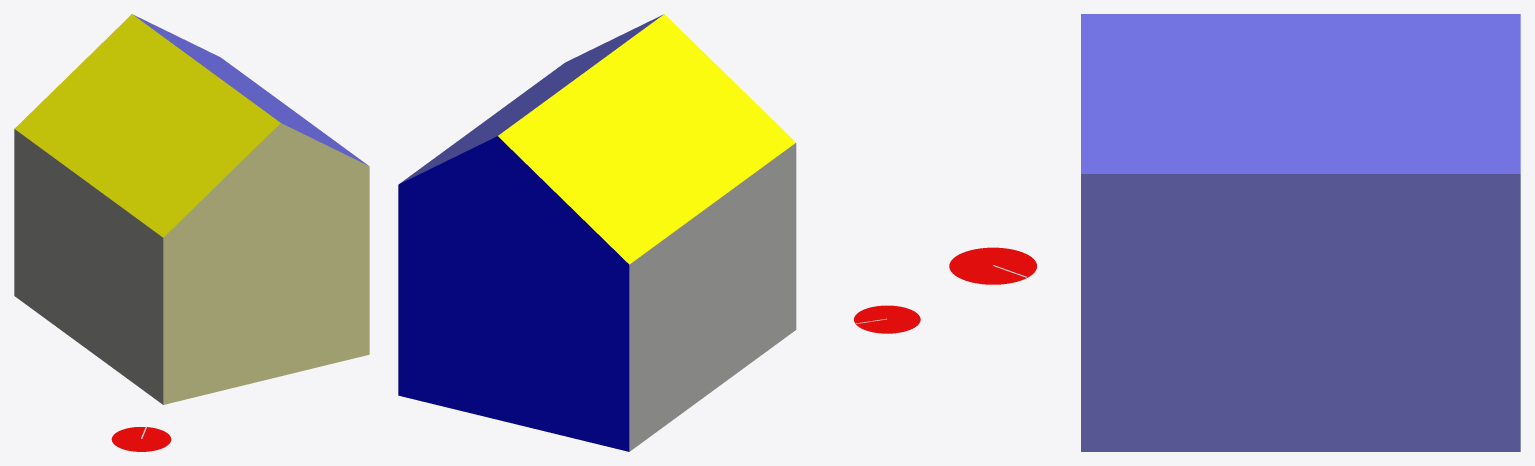
File: result.glb
3 views of the same model, side by side, from view 1: azimuth 30°, elevation 25°; view 2: azimuth 150°, elevation 25°; view 3: azimuth 270°, elevation 25° (orthographic). The views are drawn at different scales.
Parts seen in each view (by area): view 1: 4ff32cd7-fcd6-4e16-8b22-7cf6d2690ca9__undefined, 922422da-2b91-4cf8-9952-887cd6aa8e55__undefined, d9f291d2-bbc0-4190-9123-7c15f732a9ee__undefined, 7579cfec-b5da-494c-86dd-2f05d86b9114__undefined, 226f11d5-1d6c-4600-a6e2-488d9fc23a5e__Circle; view 2: b4eead0e-9d8d-4069-905f-f855418c281a__undefined, 922422da-2b91-4cf8-9952-887cd6aa8e55__undefined, d9f291d2-bbc0-4190-9123-7c15f732a9ee__undefined, 7579cfec-b5da-494c-86dd-2f05d86b9114__undefined, 226f11d5-1d6c-4600-a6e2-488d9fc23a5e__Circle; view 3: b3ecff43-37f1-4974-837e-3330b3ddfad5__undefined, 7579cfec-b5da-494c-86dd-2f05d86b9114__undefined, 226f11d5-1d6c-4600-a6e2-488d9fc23a5e__Circle.
Boxes of the visible parts, left/top/right/bottom form: 4ff32cd7-fcd6-4e16-8b22-7cf6d2690ca9__undefined: left=163, top=123, right=369, bottom=404; 922422da-2b91-4cf8-9952-887cd6aa8e55__undefined: left=14, top=14, right=280, bottom=237; d9f291d2-bbc0-4190-9123-7c15f732a9ee__undefined: left=14, top=129, right=163, bottom=404; 7579cfec-b5da-494c-86dd-2f05d86b9114__undefined: left=133, top=14, right=368, bottom=165; 226f11d5-1d6c-4600-a6e2-488d9fc23a5e__Circle: left=111, top=427, right=171, bottom=451; b4eead0e-9d8d-4069-905f-f855418c281a__undefined: left=398, top=136, right=629, bottom=451; 922422da-2b91-4cf8-9952-887cd6aa8e55__undefined: left=498, top=14, right=795, bottom=264; d9f291d2-bbc0-4190-9123-7c15f732a9ee__undefined: left=629, top=143, right=796, bottom=451; 7579cfec-b5da-494c-86dd-2f05d86b9114__undefined: left=399, top=14, right=663, bottom=183; 226f11d5-1d6c-4600-a6e2-488d9fc23a5e__Circle: left=854, top=305, right=920, bottom=333; b3ecff43-37f1-4974-837e-3330b3ddfad5__undefined: left=1081, top=174, right=1520, bottom=451; 7579cfec-b5da-494c-86dd-2f05d86b9114__undefined: left=1081, top=14, right=1520, bottom=173; 226f11d5-1d6c-4600-a6e2-488d9fc23a5e__Circle: left=949, top=247, right=1036, bottom=284.
Bounding box in the file's own units: 550 × 469 × 650.
